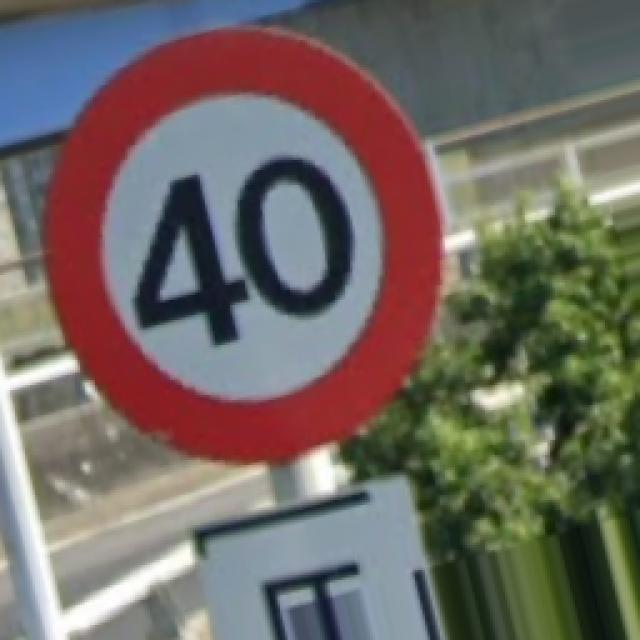Speed Limit -40-: (48, 28, 442, 458)
